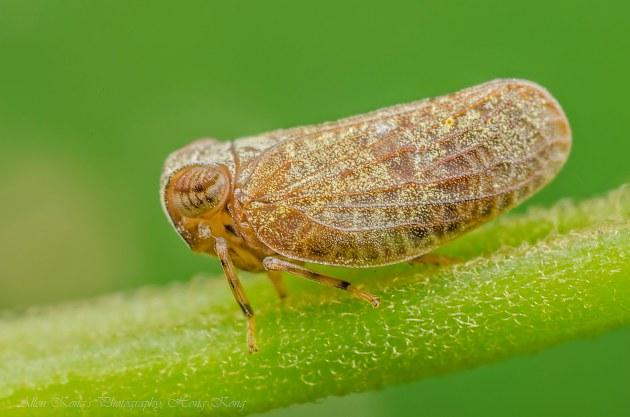Cicadellidae: (161, 76, 572, 356)
